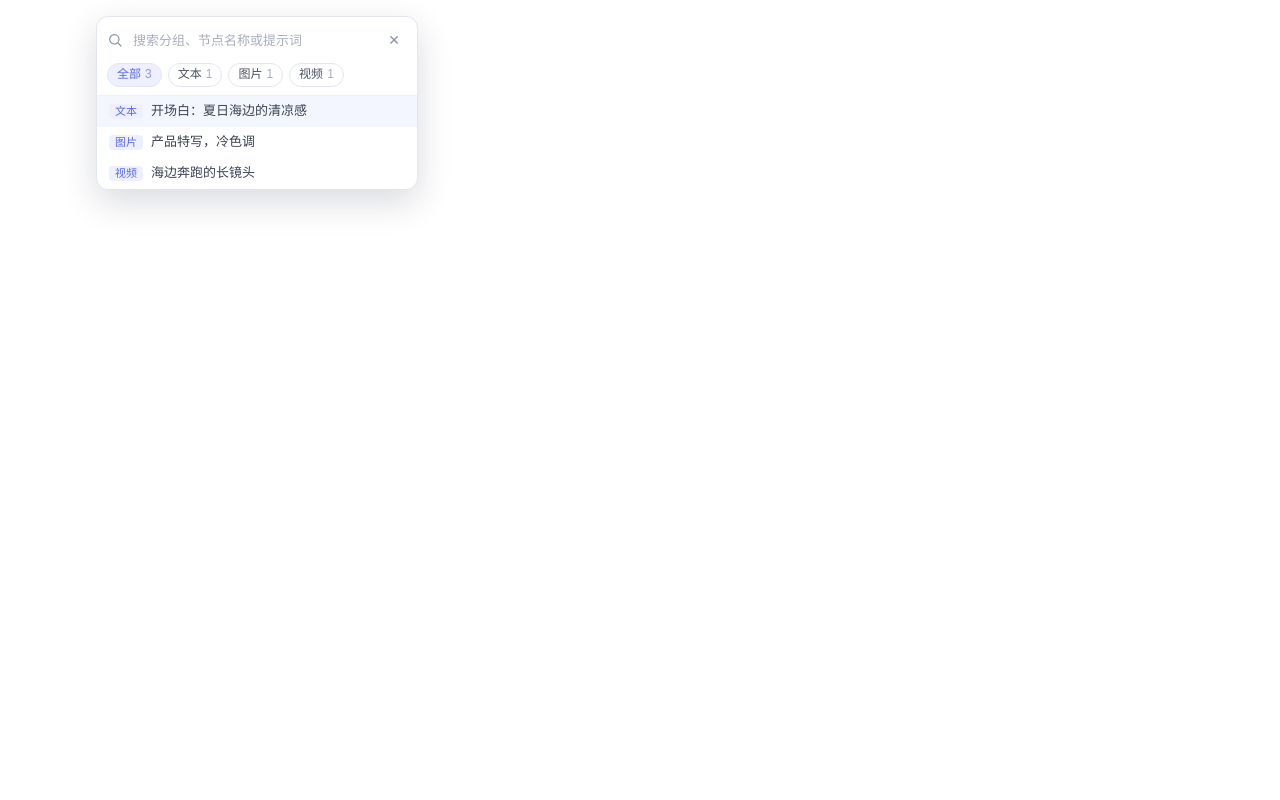
it: CanvasNodeSearch › 按内容匹配并给出类型标签
Type "海边" into the field at (252, 40), box [131,25,373,55]
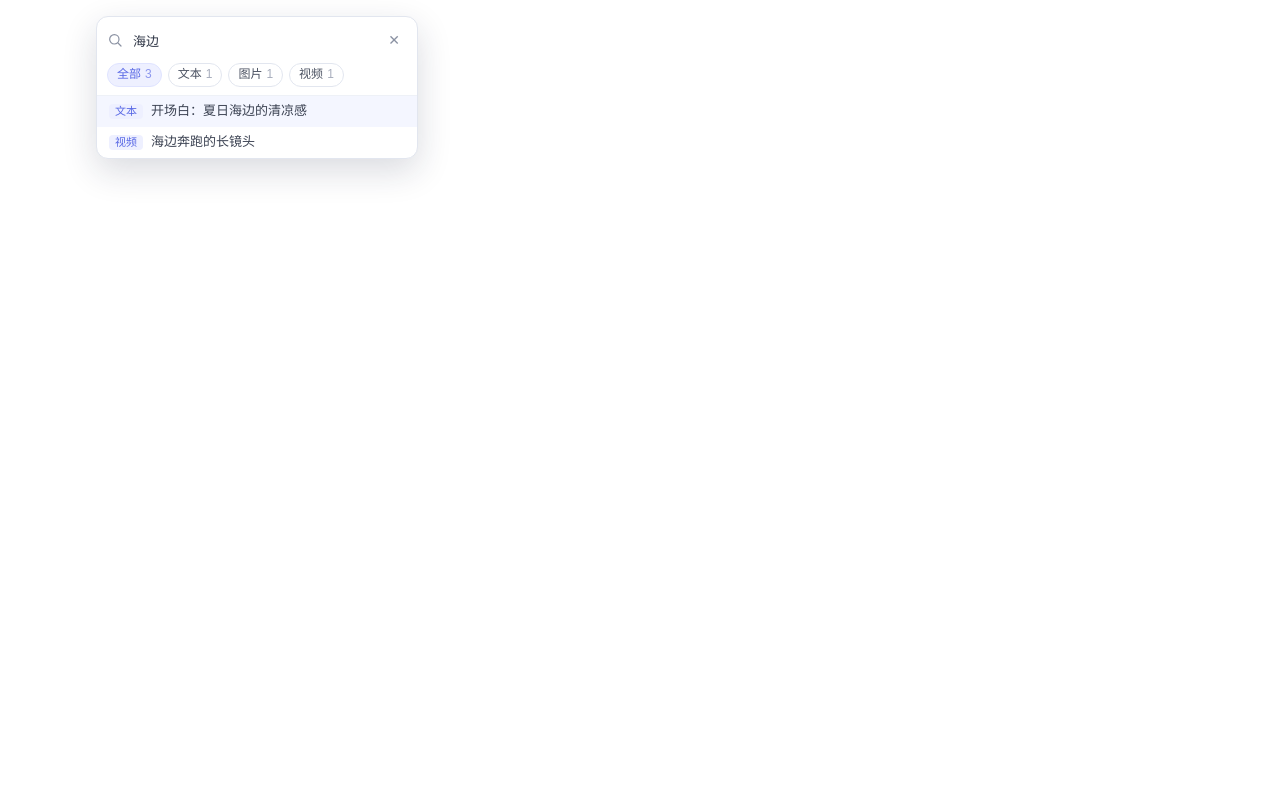
Expected: the option "文本 开场白：夏日海边的清凉感" is shown, [97,96,417,127]
Expected: the number of options is 2, [97,96,417,127]; [97,127,417,158]
